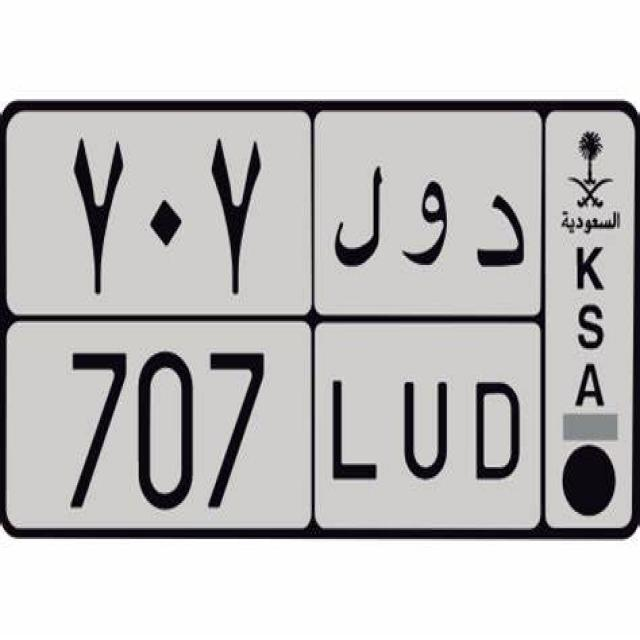license_plate: (4, 316, 548, 536)
